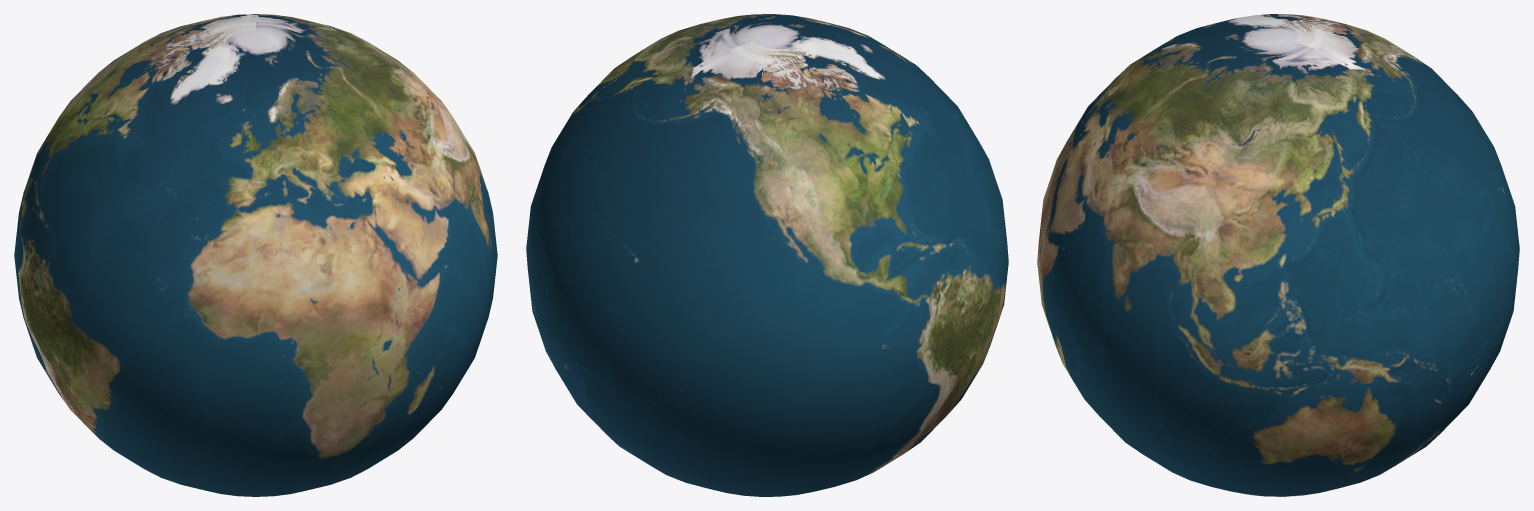
The model's file is Earth.obj.
The picture shows the model from 3 angles, left to right: view 1: azimuth 30°, elevation 25°; view 2: azimuth 150°, elevation 25°; view 3: azimuth 270°, elevation 25°; orthographic projection.
Visible parts, largest first — view 1: Earth; view 2: Earth; view 3: Earth.
Boxes of the visible parts, x1,y1,x2,y2 form: Earth: (14,14,497,496); Earth: (526,14,1008,496); Earth: (1037,14,1519,496).
Bounding box in the file's own units: 71.25 × 71.4 × 71.25.
Materials: 1 (1 with a texture image).
